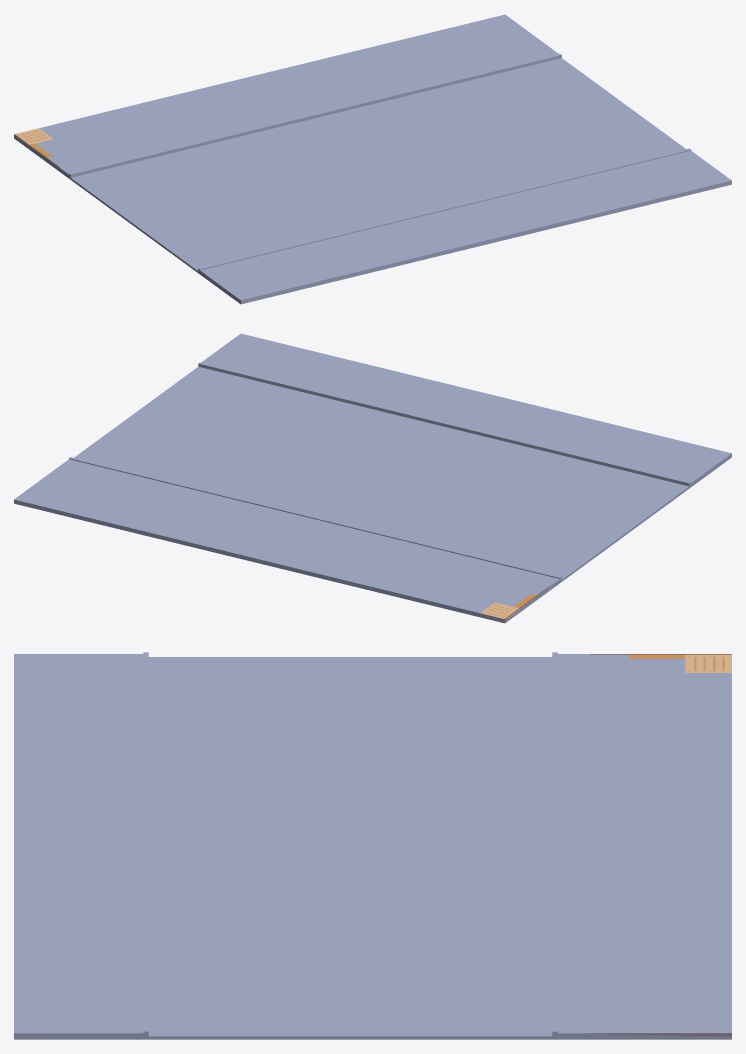
File: ground_04.FBX
The picture shows the model from 3 angles, top to bottom: view 1: azimuth 30°, elevation 25°; view 2: azimuth 150°, elevation 25°; view 3: azimuth 270°, elevation 25°; orthographic projection. The views are drawn at different scales.
Visible parts, largest first — view 1: ground_04; view 2: ground_04; view 3: ground_04.
Part boxes in pixels (left/top/right/bottom): ground_04: left=14, top=14, right=731, bottom=304; ground_04: left=14, top=333, right=731, bottom=623; ground_04: left=14, top=652, right=731, bottom=1039.
Size of the model in its own units: 2000 by 20 by 1600.
